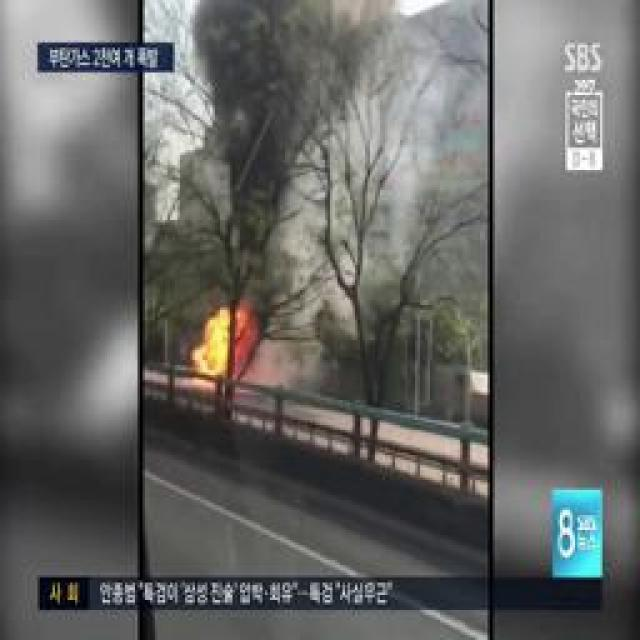Fire: (190, 318, 258, 384)
